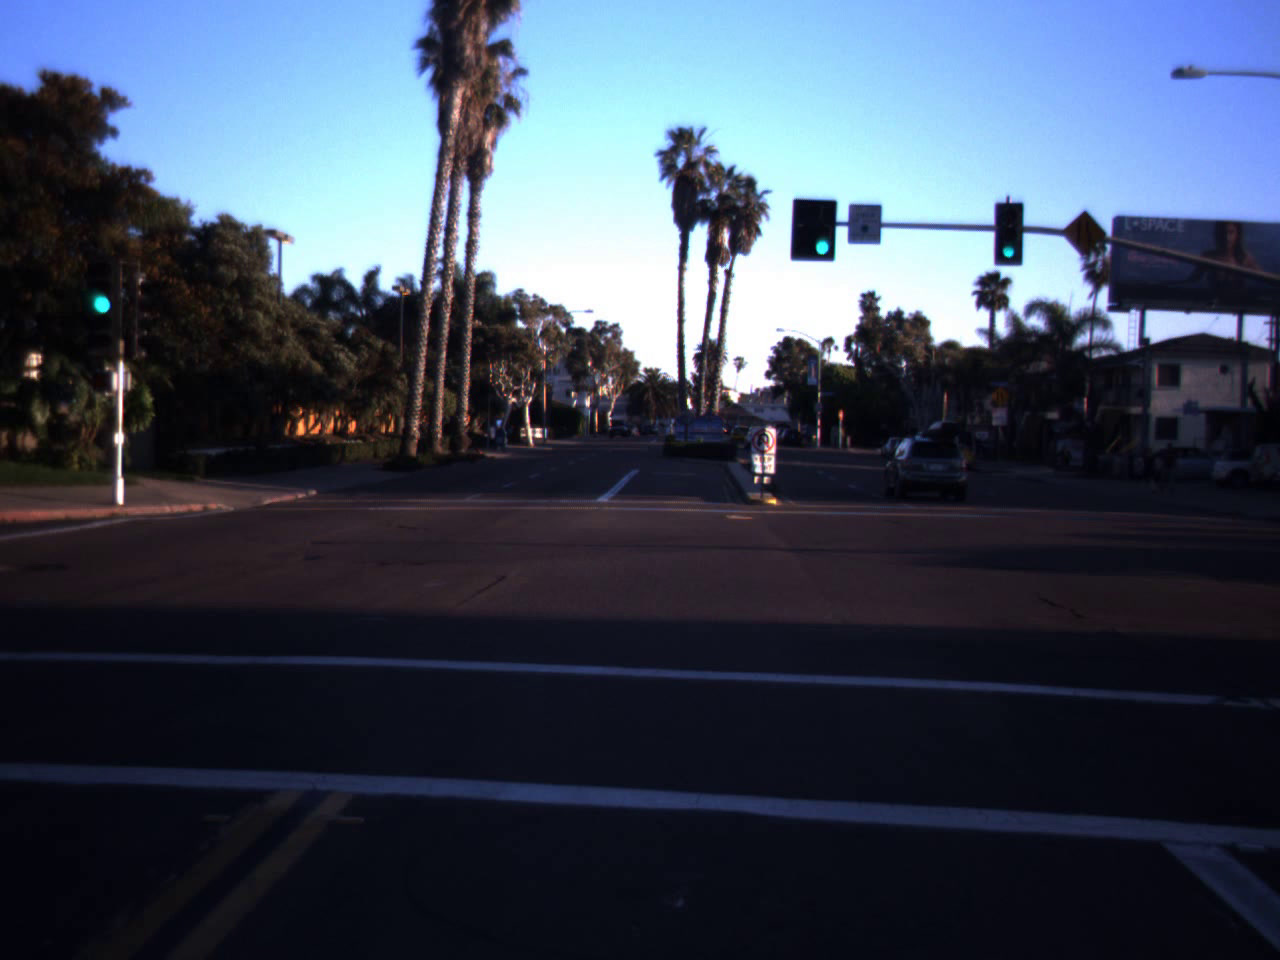go: (81, 244, 123, 319), (804, 200, 840, 260), (996, 225, 1020, 260)
